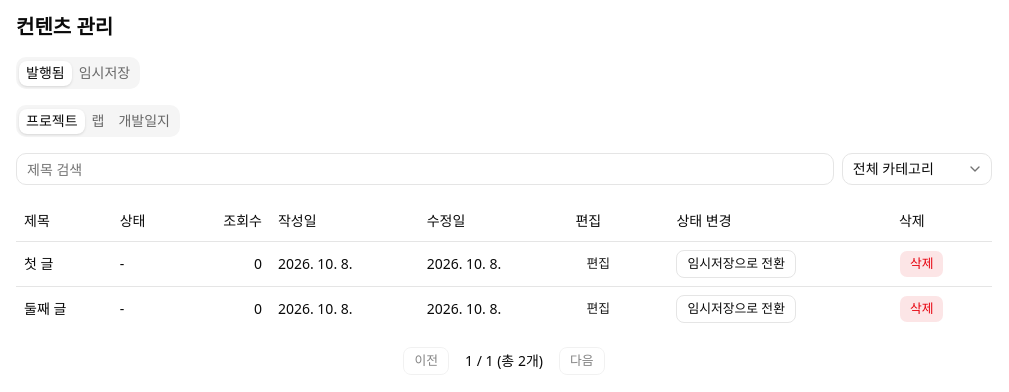
Test: PostListPage 발행 전환 › 경계 › 처리 중에는 해당 행만 처리 중…이고 다른 행의 버튼 문구는 그대로여야 한다
The width and height of the screenshot is (1009, 392).
Expected: the text "첫 글" is shown, [16,241,112,286]
Click the button "임시저장으로 전환" in the row of "첫 글": (736,264) [676,250,796,278]
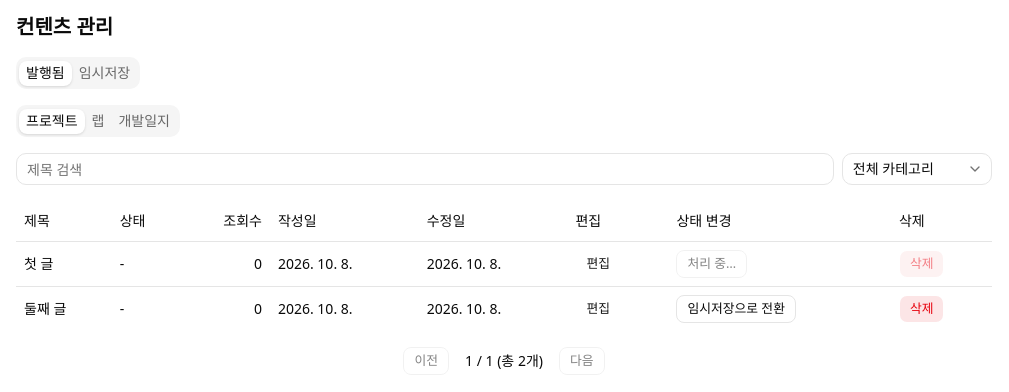
Expected: the button "임시저장으로 전환" is enabled, [676,294,796,322]
Now the button "처리 중…" is disabled, box [676,250,747,278]
